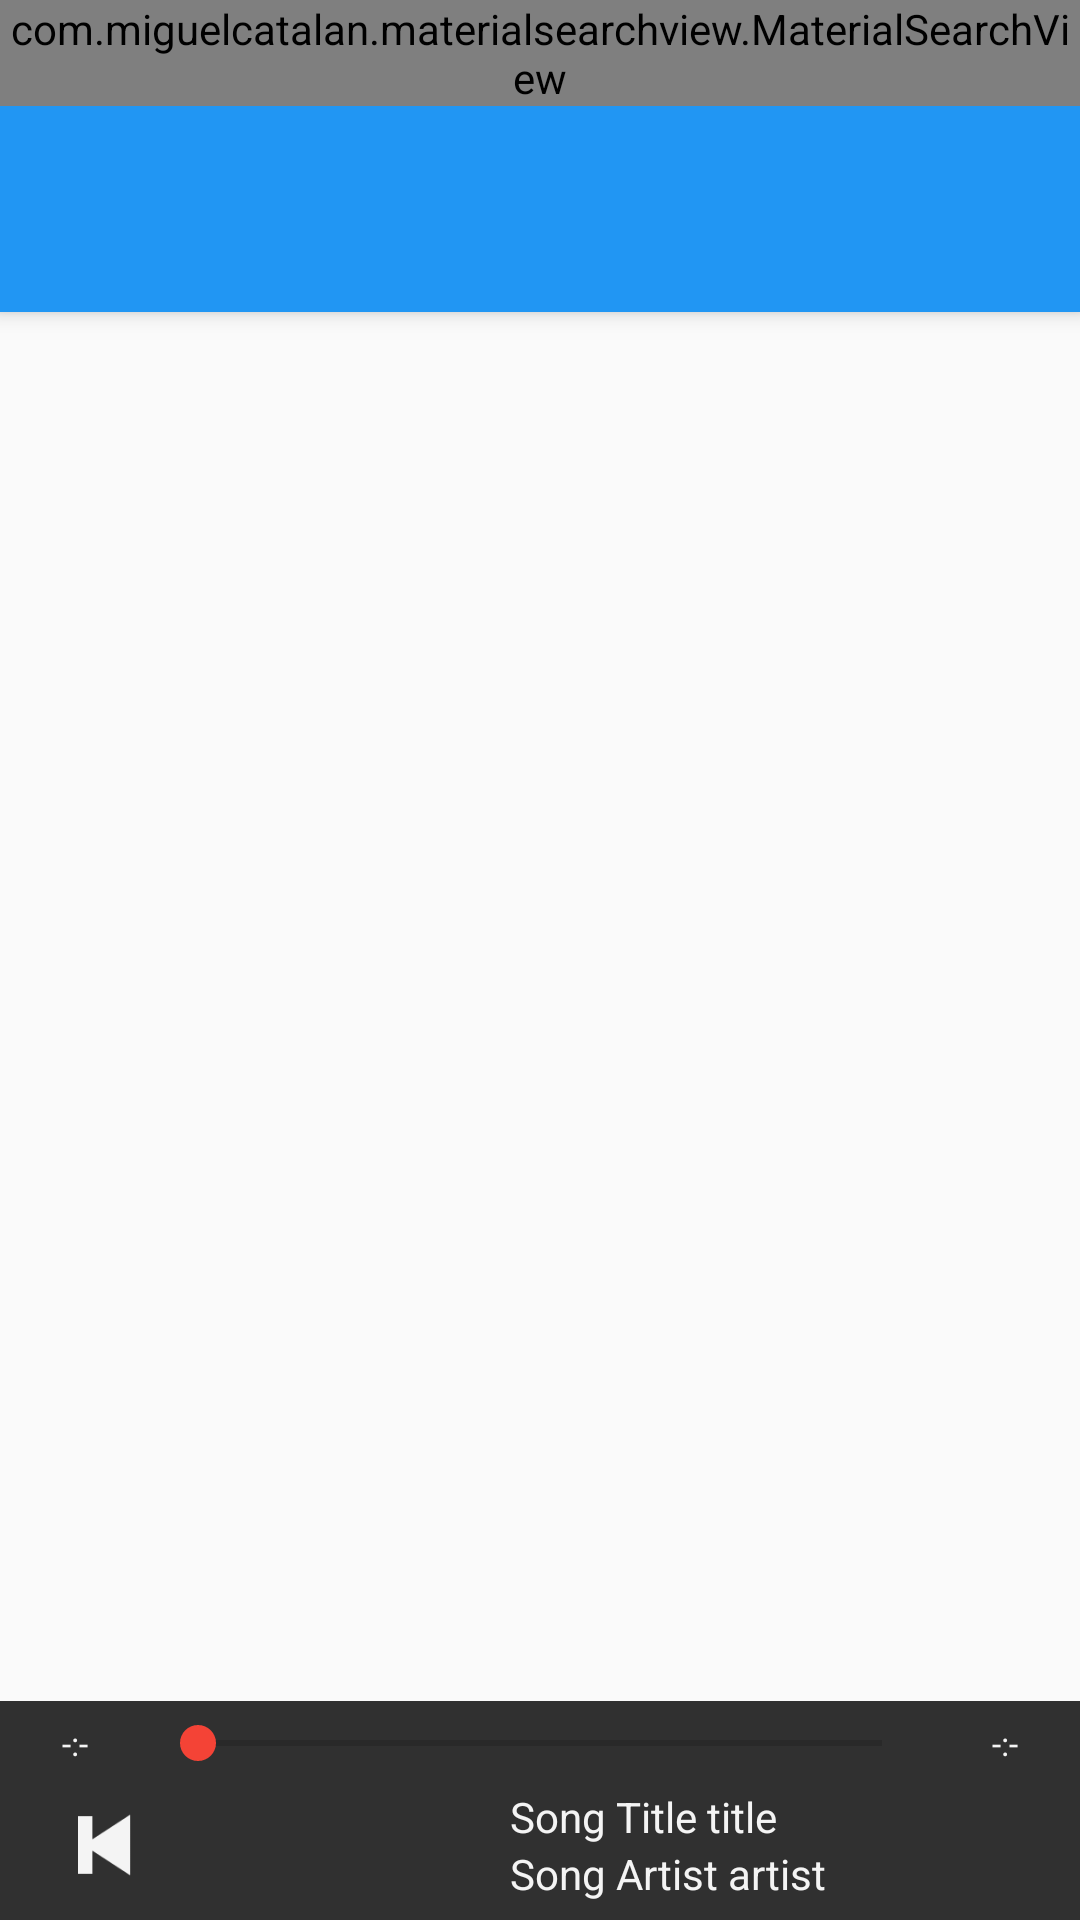

Icon click points for this 1080 × 1920 phone screenshot, format (x=x, y=y):
bwd: (x=104, y=1845)
